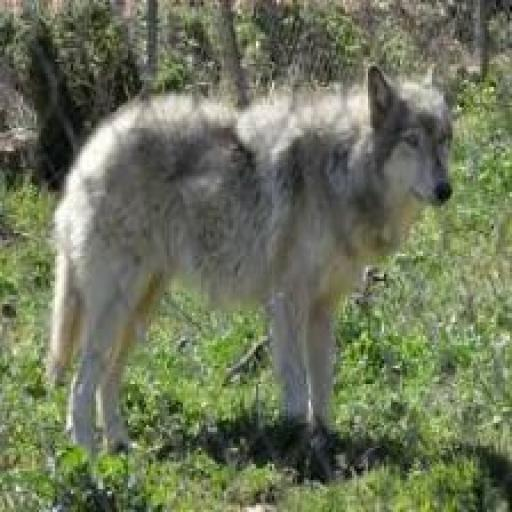wolf: (41, 57, 474, 471)
